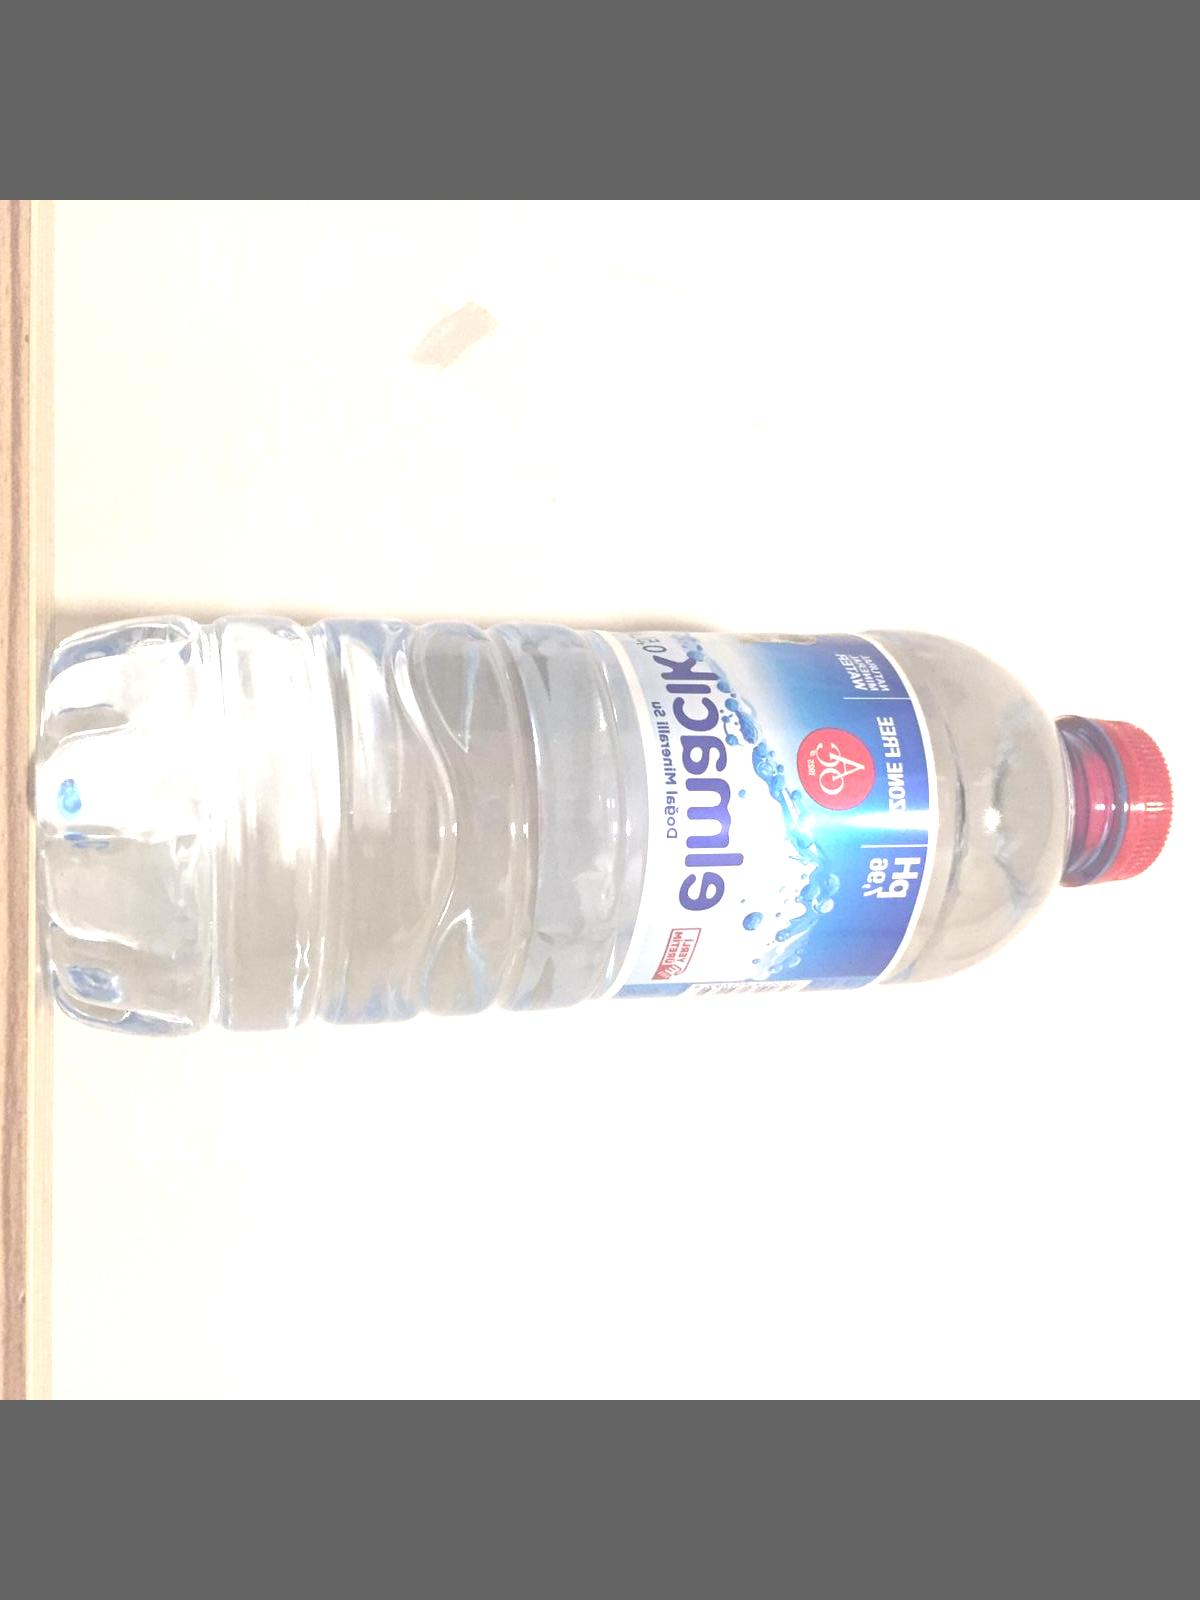bottle: (44, 609, 1181, 1026)
